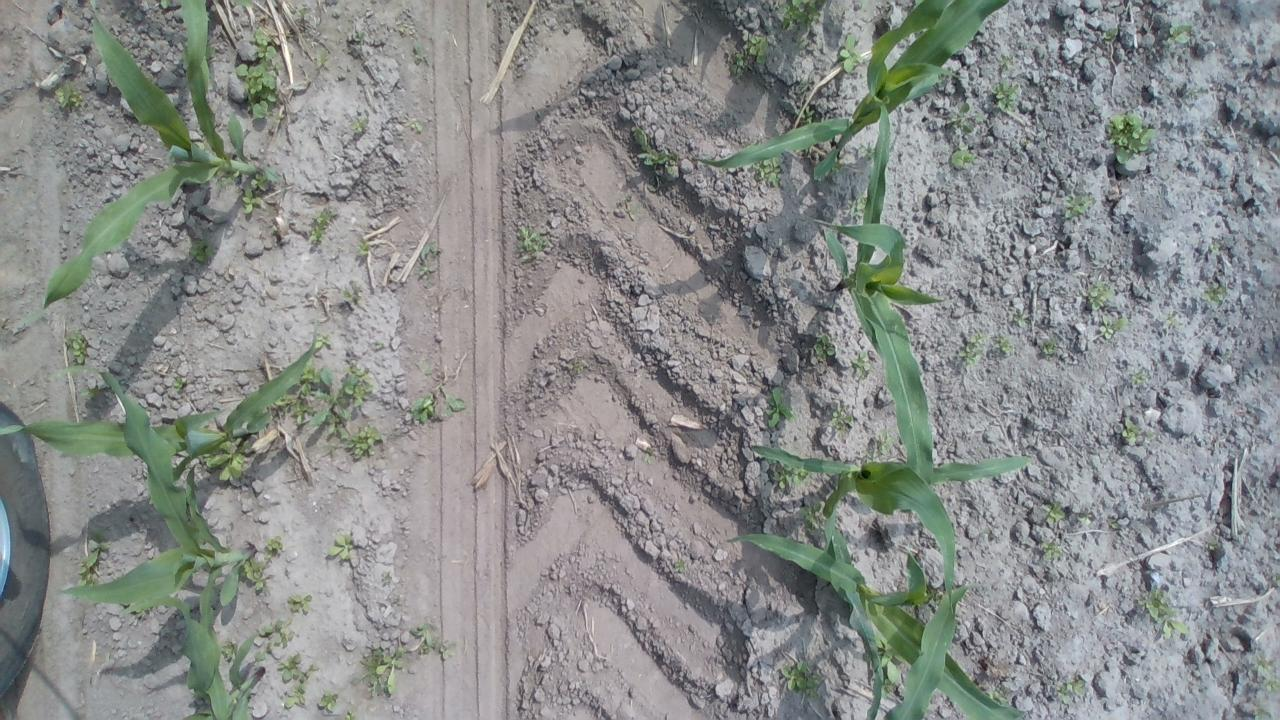Maize: (12, 0, 260, 325), (49, 366, 260, 718), (0, 317, 320, 504), (724, 526, 1032, 720), (691, 0, 1010, 183), (747, 443, 1034, 617), (813, 92, 935, 486), (120, 596, 264, 720), (882, 582, 979, 720)
Weeds: (306, 362, 354, 439), (1132, 586, 1194, 644), (236, 60, 285, 124), (1105, 110, 1157, 166), (408, 381, 469, 426), (360, 640, 404, 702), (632, 120, 682, 174), (206, 442, 254, 484), (410, 620, 456, 660), (76, 528, 108, 584), (779, 659, 823, 699), (778, 0, 829, 32), (516, 222, 553, 266), (943, 97, 988, 133), (344, 424, 384, 463), (344, 361, 376, 408), (304, 204, 336, 250), (259, 618, 302, 652), (274, 653, 320, 684), (1080, 278, 1119, 312), (766, 385, 796, 428), (838, 35, 866, 76), (990, 78, 1021, 114), (1162, 16, 1196, 48), (1052, 670, 1086, 702), (277, 394, 314, 423), (244, 555, 272, 593), (879, 640, 902, 686), (327, 531, 359, 564), (1121, 417, 1156, 446), (958, 332, 986, 368), (1061, 191, 1095, 220), (64, 328, 89, 366), (53, 80, 85, 109), (250, 27, 278, 59), (1098, 312, 1127, 342), (749, 34, 774, 67), (755, 158, 781, 189), (316, 686, 344, 714), (1040, 536, 1066, 566), (831, 406, 856, 437), (1043, 499, 1067, 531), (773, 468, 811, 488), (286, 593, 316, 618), (188, 238, 216, 264), (282, 681, 308, 708), (618, 194, 647, 218), (1196, 278, 1227, 300), (948, 144, 976, 168), (1252, 649, 1276, 677), (812, 334, 836, 362), (242, 186, 264, 216), (729, 50, 750, 81), (876, 428, 900, 455), (342, 278, 365, 306), (996, 50, 1018, 78), (848, 350, 870, 374), (1007, 308, 1030, 330), (804, 502, 822, 530), (264, 532, 285, 556), (420, 240, 440, 264), (220, 638, 238, 664), (996, 338, 1020, 357), (848, 193, 866, 218), (1042, 337, 1063, 358), (404, 115, 426, 134), (794, 106, 814, 126), (316, 332, 336, 352), (302, 362, 322, 382), (251, 173, 271, 192), (316, 49, 332, 71), (416, 264, 438, 280), (378, 569, 396, 588), (860, 140, 874, 164), (1166, 307, 1182, 328), (1131, 367, 1148, 386), (350, 115, 369, 132), (1076, 507, 1094, 524), (357, 236, 372, 256), (420, 353, 434, 374), (795, 35, 812, 52), (570, 357, 586, 375), (413, 40, 426, 62), (1102, 28, 1122, 42), (985, 684, 1002, 700), (79, 387, 101, 399), (1262, 676, 1280, 689), (859, 448, 878, 460), (1254, 707, 1270, 720), (1109, 515, 1122, 531), (1208, 538, 1222, 552), (353, 30, 367, 44), (641, 452, 656, 465), (170, 376, 183, 390), (981, 526, 996, 538), (1210, 242, 1223, 254), (676, 560, 687, 574), (343, 709, 356, 720), (374, 339, 386, 350), (299, 382, 312, 392)
